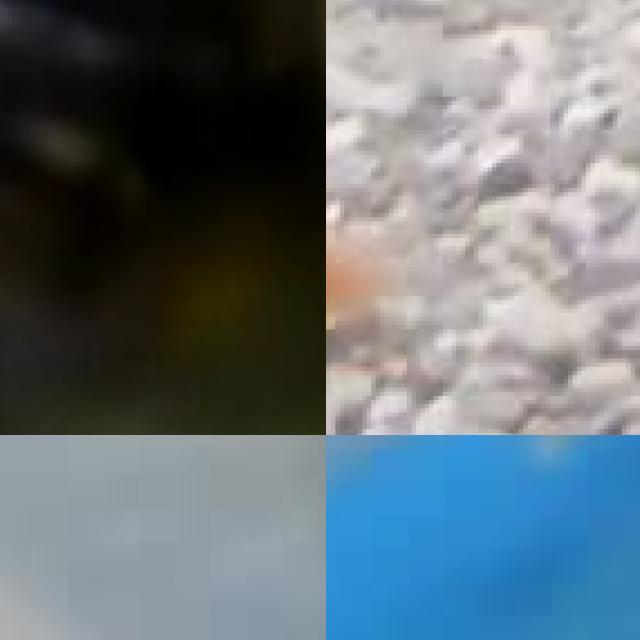fish: (0, 0, 326, 435), (0, 435, 326, 640)
